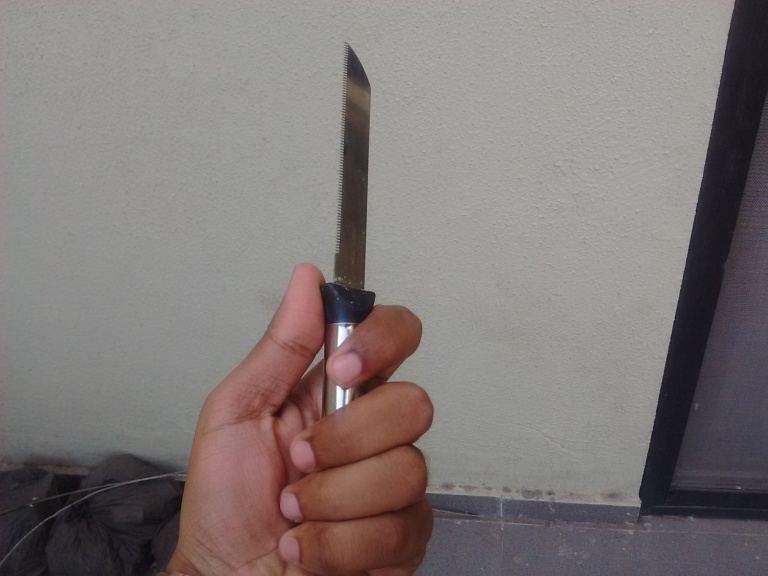knife: (319, 42, 378, 416)
